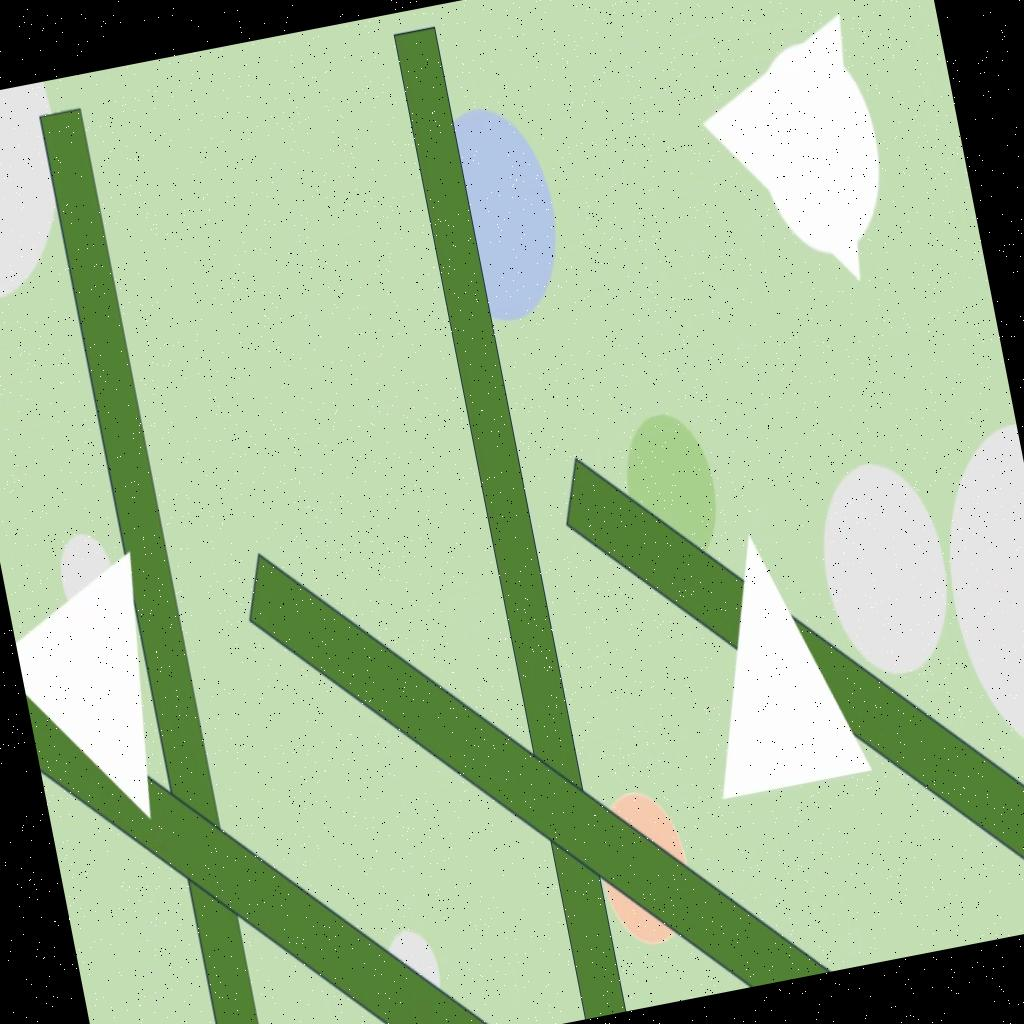Circle: (418, 96, 574, 330), (921, 420, 1024, 774), (805, 453, 962, 684), (742, 31, 896, 256), (616, 407, 732, 574), (587, 784, 702, 952), (0, 81, 85, 307), (380, 926, 448, 1021), (54, 532, 118, 624)
